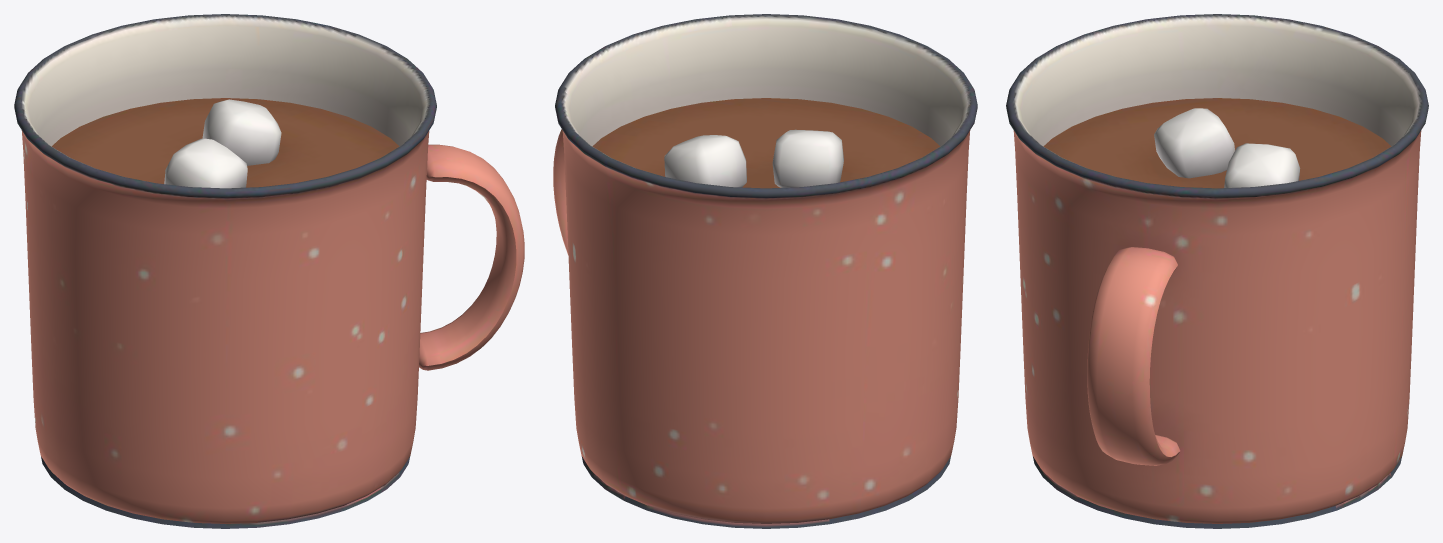
Rendered from beer-mug.glb.
3 renders of one model, left to right at view 1: azimuth 30°, elevation 25°; view 2: azimuth 150°, elevation 25°; view 3: azimuth 270°, elevation 25°, orthographic.
Visible parts, largest first — view 1: camping-mug_body; view 2: camping-mug_body; view 3: camping-mug_body.
Boxes of the visible parts, bbox=[...] form: camping-mug_body: bbox=[14, 14, 524, 528]; camping-mug_body: bbox=[553, 14, 977, 528]; camping-mug_body: bbox=[1006, 14, 1428, 528].
Size of the model in its own units: 0.1126 by 0.0871 by 0.0952.
1 material, 1 textured.
